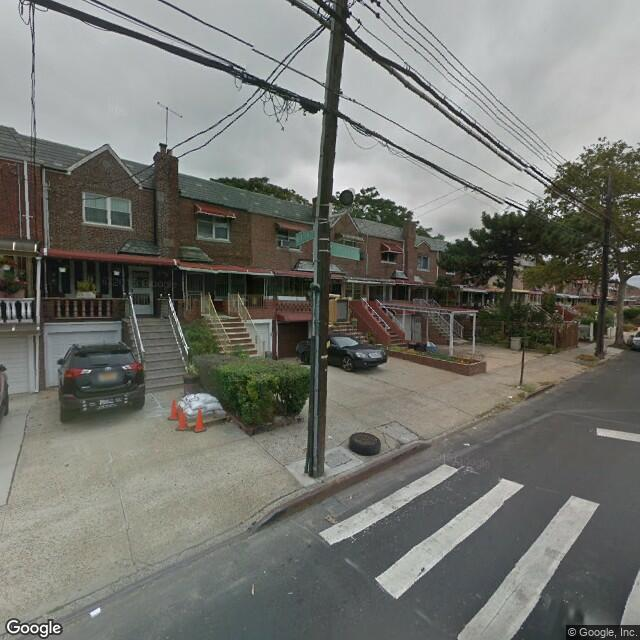litter: (90, 610, 102, 612), (464, 442, 474, 444), (509, 395, 514, 399)
